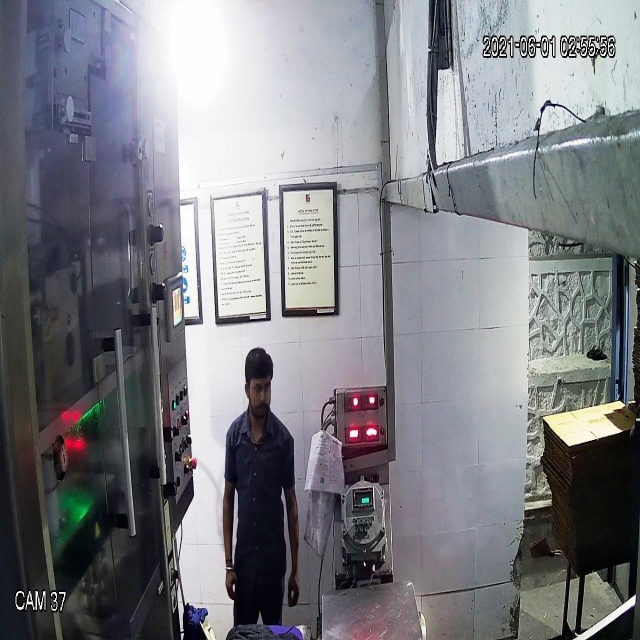Sin_gafas: (237, 379, 276, 403)
